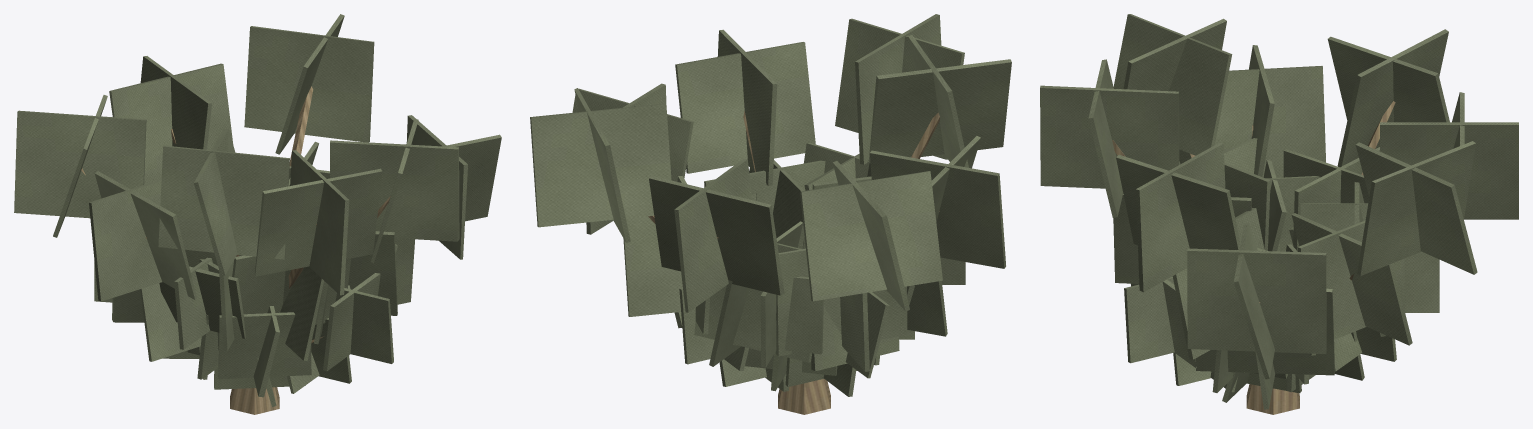
The model's file is bush_v3.glb.
3 views of the same model, side by side, from view 1: azimuth 30°, elevation 25°; view 2: azimuth 150°, elevation 25°; view 3: azimuth 270°, elevation 25° (orthographic). The views are drawn at different scales.
Visible parts, largest first — view 1: Variant_bush_3; view 2: Variant_bush_3; view 3: Variant_bush_3.
Boxes of the visible parts, bbox=[...] form: Variant_bush_3: bbox=[14, 14, 501, 414]; Variant_bush_3: bbox=[530, 14, 1011, 414]; Variant_bush_3: bbox=[1040, 14, 1518, 414].
Size of the model in its own units: 1.22 by 0.8719 by 1.17.
2 materials, 2 textured.
